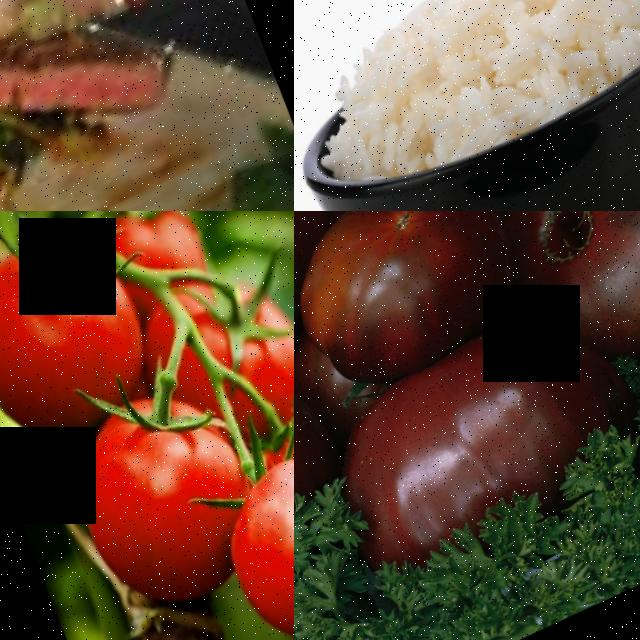tomato: (46, 363, 288, 632), (0, 211, 179, 470), (198, 434, 294, 640)
white rice: (294, 0, 640, 211)
